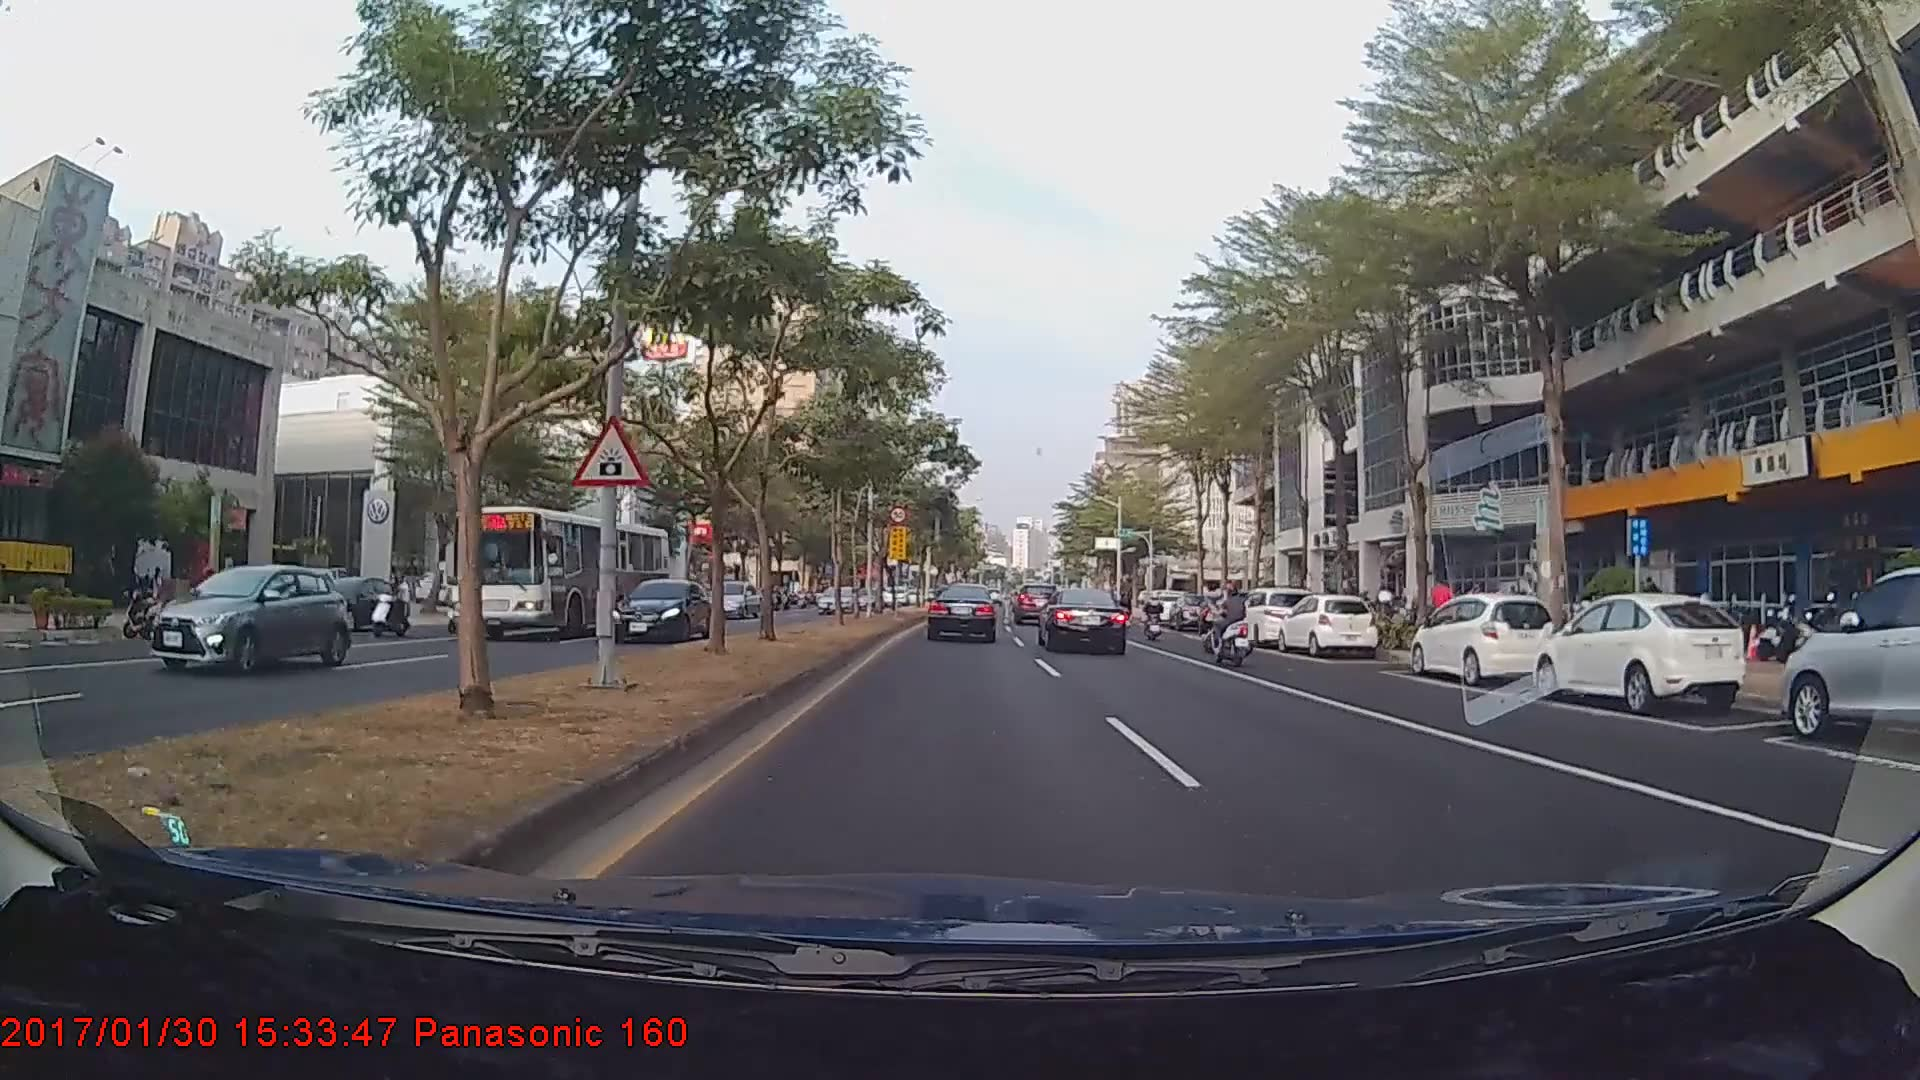rider: (1207, 582, 1261, 671), (364, 573, 418, 642), (1201, 588, 1246, 654), (1144, 586, 1170, 642)
vehicle: (449, 506, 673, 642), (1779, 560, 1920, 756), (1533, 591, 1748, 715), (145, 564, 349, 676), (1413, 592, 1562, 686), (610, 577, 712, 641), (1278, 594, 1378, 657), (1038, 587, 1129, 655), (1226, 584, 1319, 643), (313, 576, 410, 632), (925, 582, 1000, 643), (703, 581, 760, 619), (1012, 581, 1062, 623), (814, 584, 859, 614)
